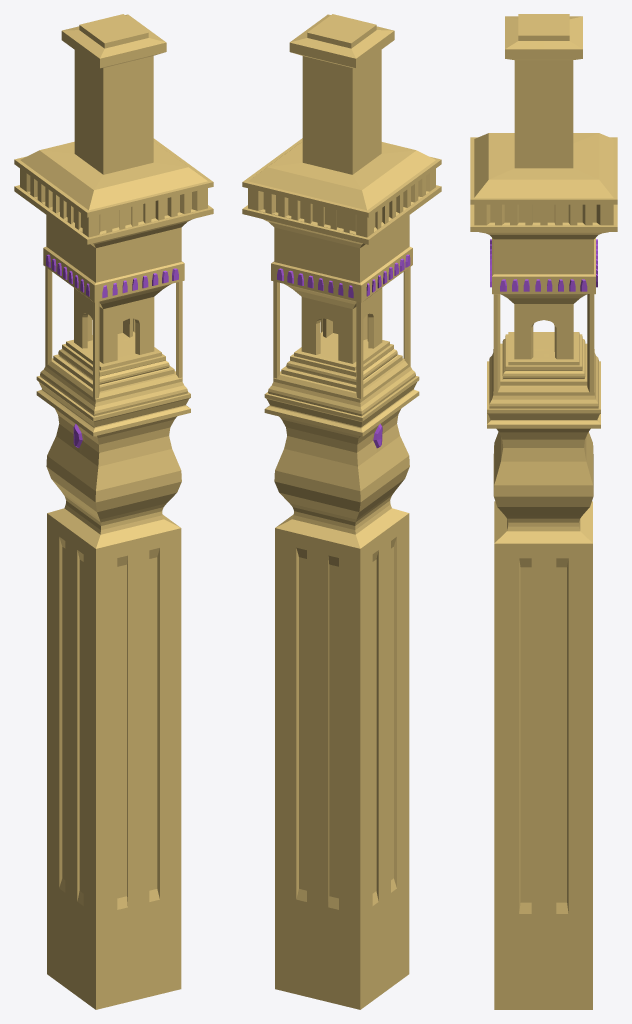
The model's file is Area2.Pillar1.fbx.
3 renders of one model, left to right at view 1: azimuth 30°, elevation 25°; view 2: azimuth 150°, elevation 25°; view 3: azimuth 270°, elevation 25°, orthographic.
Parts seen in each view (by area): view 1: Cube; view 2: Cube; view 3: Cube.
Part boxes in pixels (x1,y1,x2,y2): Cube: (14, 14, 213, 1009); Cube: (242, 14, 441, 1009); Cube: (470, 14, 617, 1009).
Bounding box in the file's own units: 257 × 1850 × 257.
